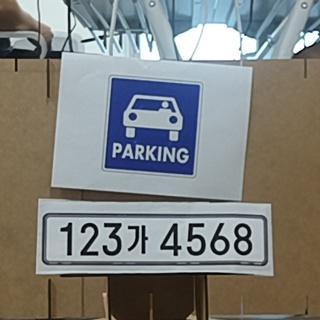normal: (42, 212, 267, 265)
